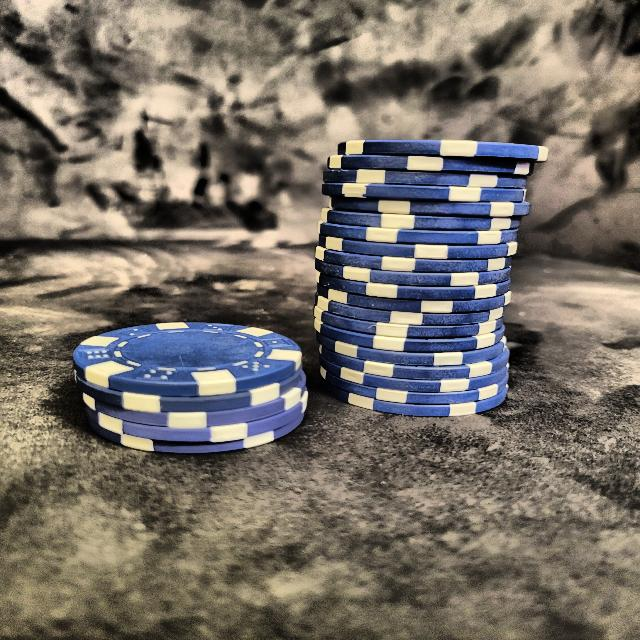Chip: (305, 128, 555, 418), (71, 301, 299, 465)
